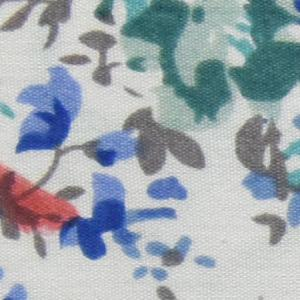Stain: (1, 158, 85, 239)
